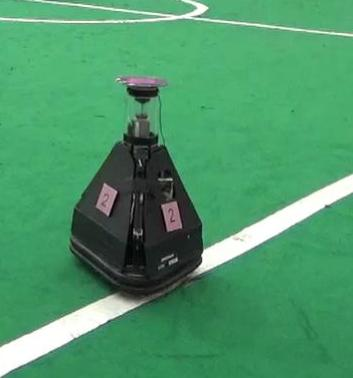robot: (65, 71, 205, 299)
